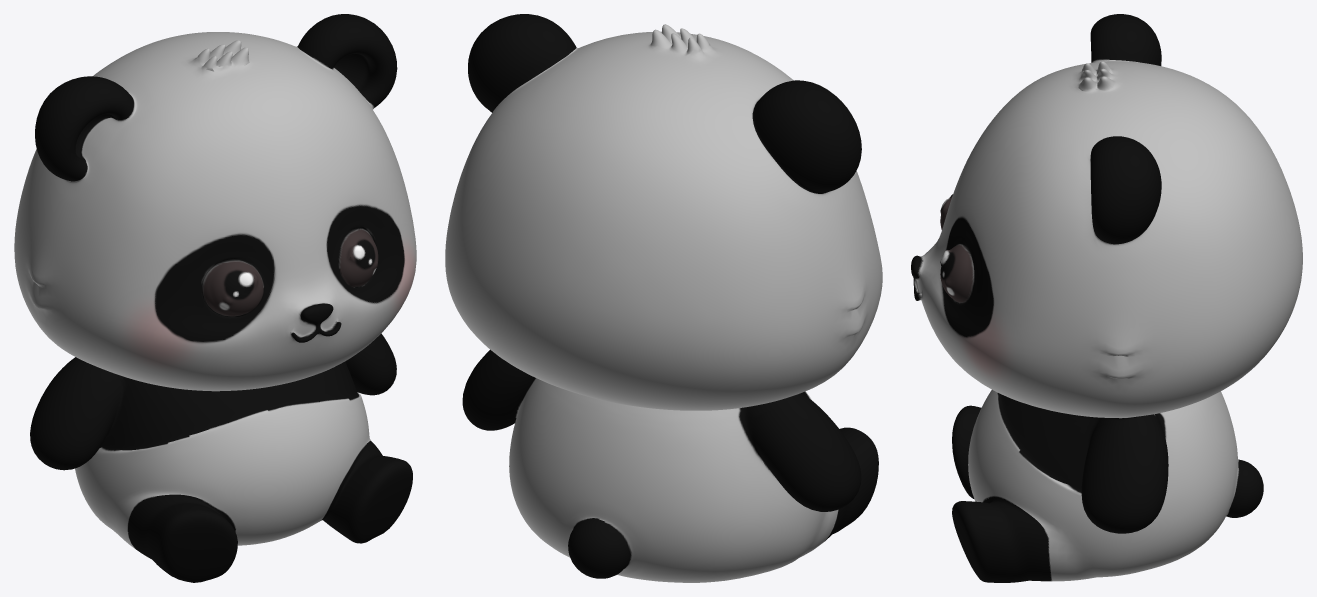
Rendered from panda.glb.
The picture shows the model from 3 angles, left to right: view 1: azimuth 30°, elevation 25°; view 2: azimuth 150°, elevation 25°; view 3: azimuth 270°, elevation 25°; orthographic projection. The views are drawn at different scales.
Parts seen in each view (by area): view 1: uv:Retopo_edd67228a09fad79238f8c073972675_Meshgroup3group2; view 2: uv:Retopo_edd67228a09fad79238f8c073972675_Meshgroup3group2; view 3: uv:Retopo_edd67228a09fad79238f8c073972675_Meshgroup3group2.
Boxes of the visible parts, left/top/right/bottom form: uv:Retopo_edd67228a09fad79238f8c073972675_Meshgroup3group2: left=14, top=14, right=416, bottom=582; uv:Retopo_edd67228a09fad79238f8c073972675_Meshgroup3group2: left=445, top=14, right=882, bottom=582; uv:Retopo_edd67228a09fad79238f8c073972675_Meshgroup3group2: left=911, top=14, right=1302, bottom=582.
Bounding box in the file's own units: 0.4753 × 0.5966 × 0.4519.
Materials: 1 (1 with a texture image).
